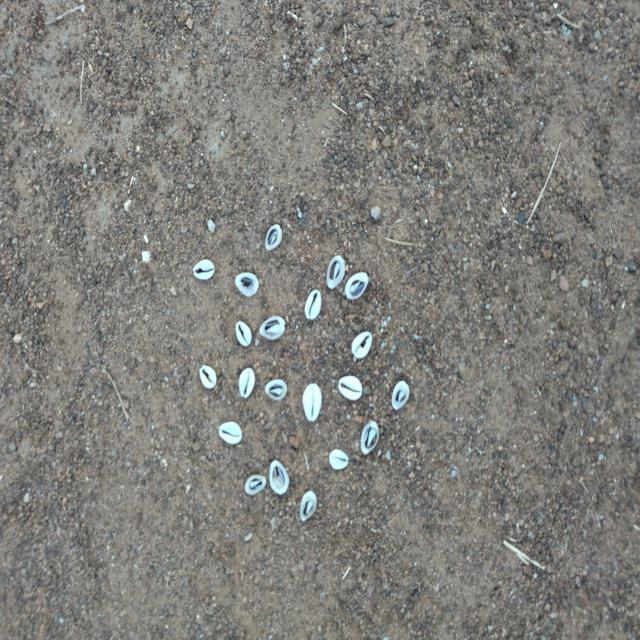facedown: (268, 458, 290, 498), (359, 419, 380, 458), (344, 271, 370, 301), (234, 270, 260, 299), (260, 315, 288, 341), (326, 254, 346, 289), (262, 378, 290, 402), (391, 380, 412, 411), (300, 490, 318, 522), (263, 223, 283, 251), (244, 472, 266, 496)
faceup: (302, 380, 322, 423), (216, 420, 244, 446), (337, 374, 364, 400), (302, 289, 322, 323), (352, 332, 374, 361), (192, 256, 215, 282), (238, 366, 255, 400), (328, 447, 350, 472), (234, 319, 254, 346), (198, 364, 218, 389)
